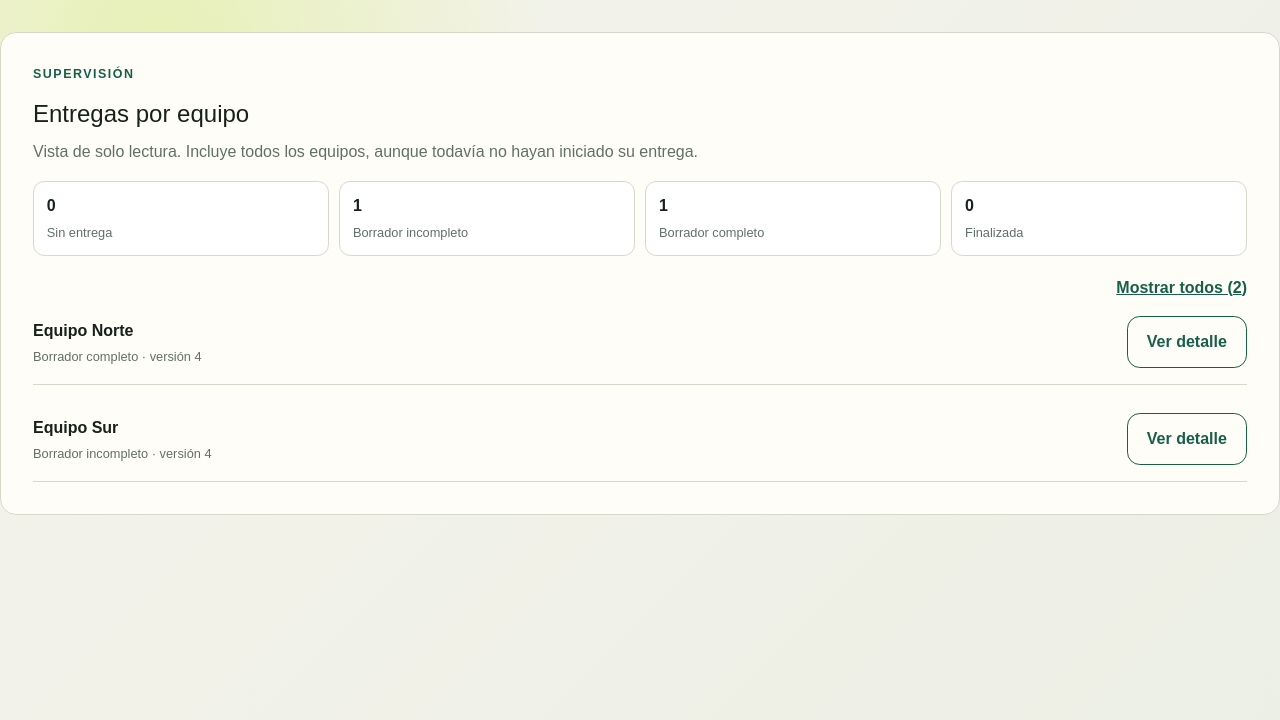
Test: team delivery interfaces › filters every team for administrators and exposes only read-only detail links
The image size is (1280, 720).
Check: the text "Equipo Norte" is shown, box [33,322,133,338]
Check: the text "Equipo Sur" is shown, box [33,418,118,436]
Click the button named "1Borrador incompleto".
click(411, 233)  # box [339,180,635,256]
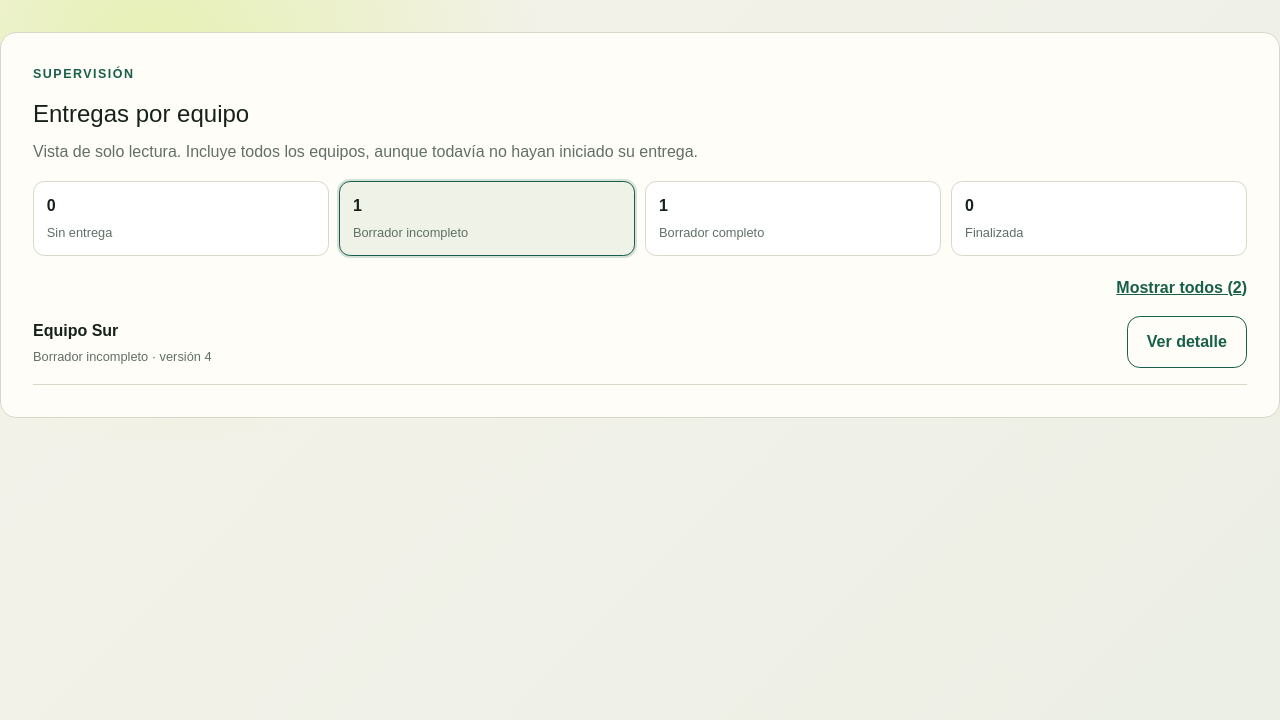
Check: the text "Equipo Norte" is gone
